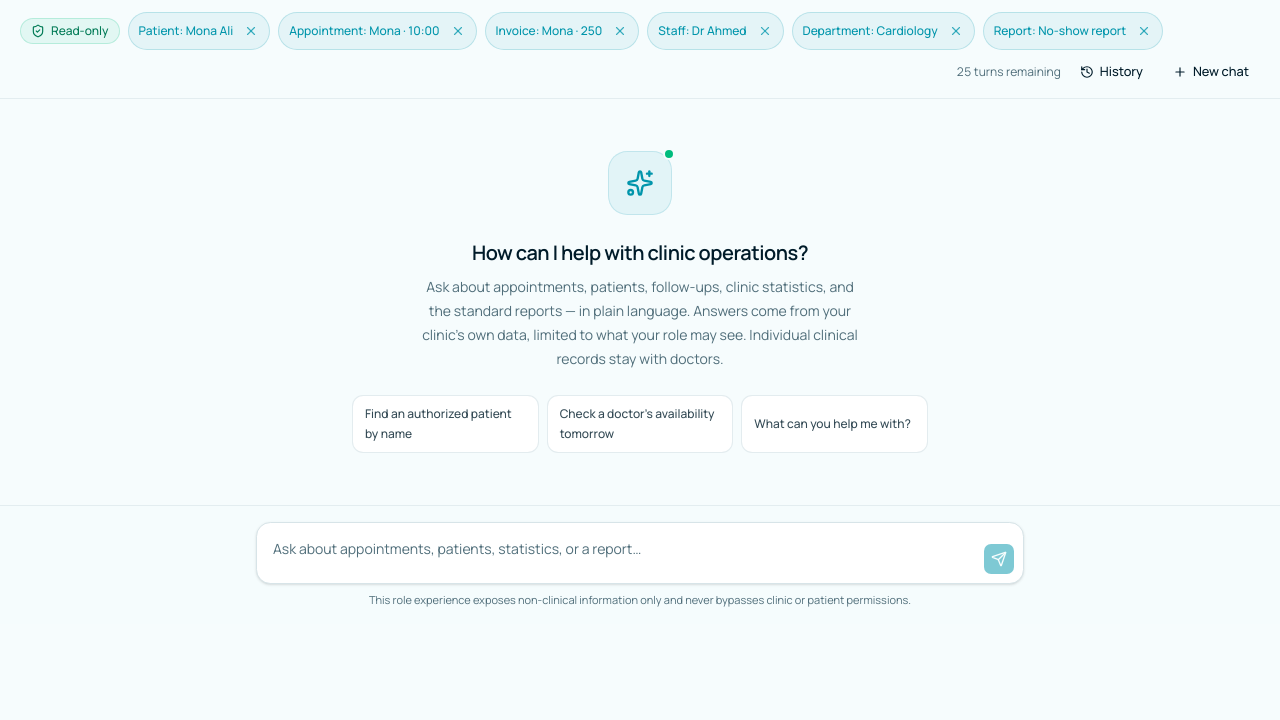
Test: P4.10B visible active-context controls › clears one exact slot without sending a display label or changing another slot
Click the button named "Clear active Patient context". click: coordinates (251, 31)
box: [237,17,265,45]
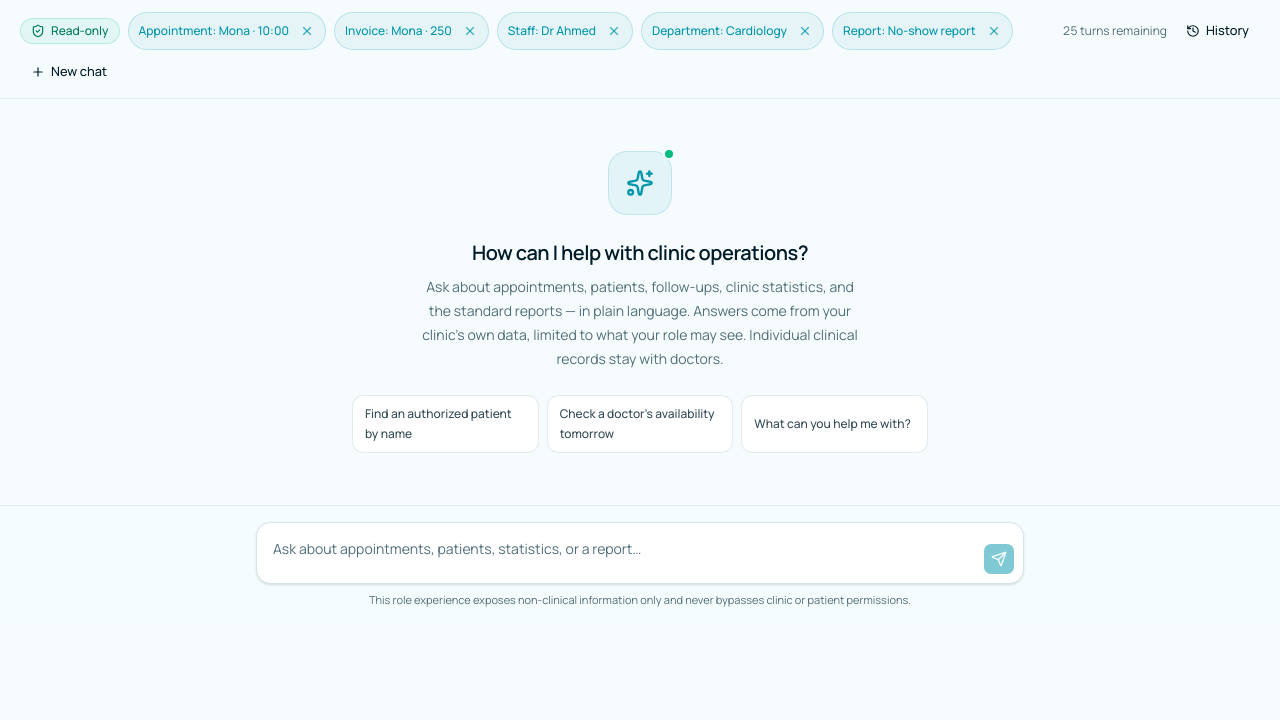
Check: the text "Report: No-show report" is shown, box [843,23,976,39]
Check: the text "Patient: Mona Ali" is gone
